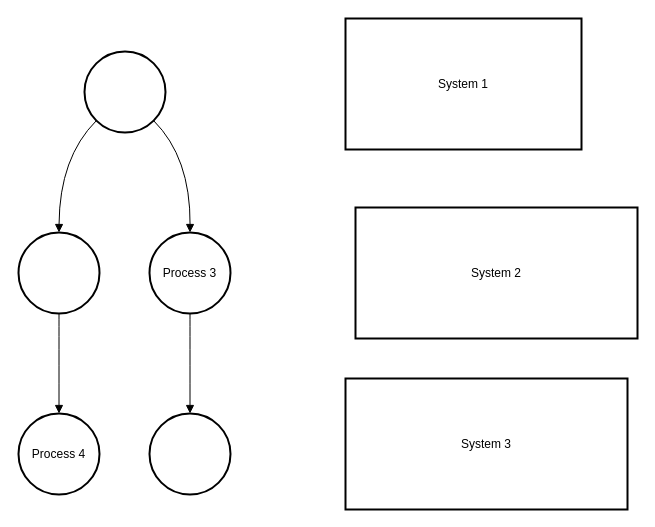
Some shapes in this 655 by 527 pixel diagram are drawn without their labels. Each missing label, with the centre of its shape:
"Process 1" goes at pixel 124 91.
"Process 2" goes at pixel 58 272.
"Process 5" goes at pixel 189 453.
